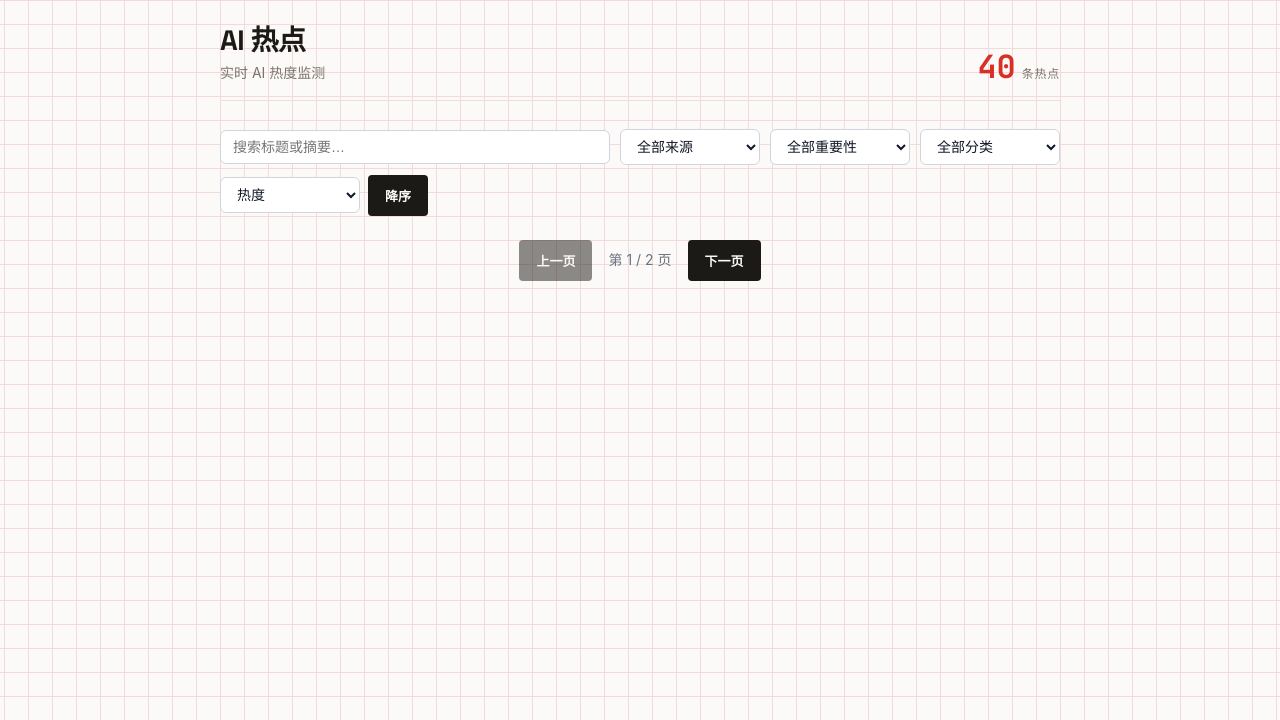
Test case: DashboardView › disables previous page on first page and next page on last page
Expected: the text with test id "page-info" reads "第 1 / 2 页", [608, 251, 672, 268]
Expected: the button with aria-label "上一页" is disabled, [520, 240, 592, 281]
Click the button with test id "next-page": (724, 260) [688, 240, 760, 281]
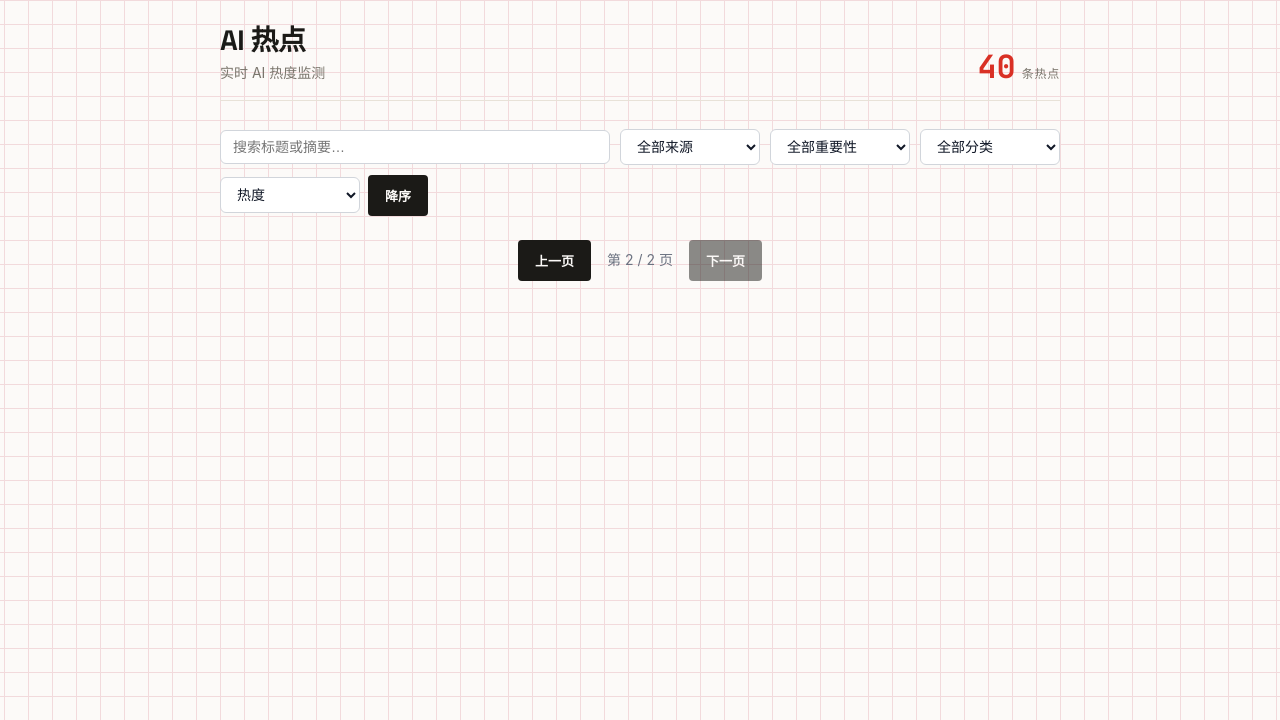
Expected: the text with test id "page-info" reads "第 2 / 2 页", [607, 251, 673, 268]
Expected: the button with aria-label "上一页" is enabled, [518, 240, 591, 281]
Expected: the button with test id "next-page" is disabled, [689, 240, 762, 281]
